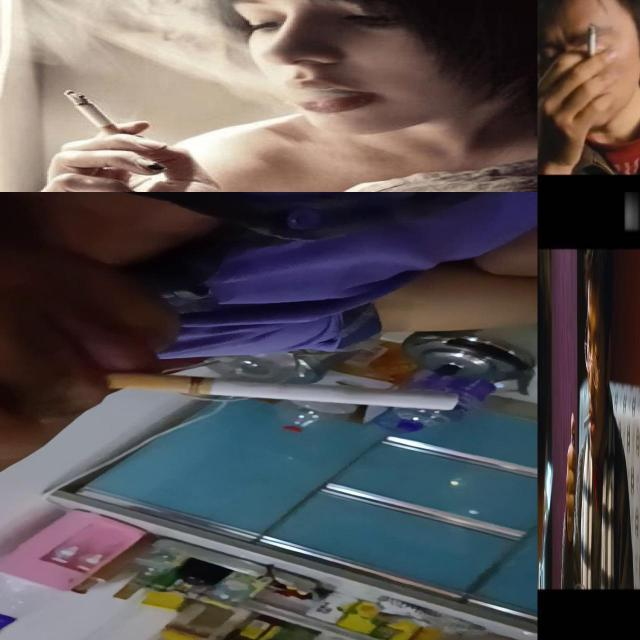cigarette: (108, 374, 462, 411), (63, 90, 122, 136), (586, 22, 598, 58), (582, 408, 592, 438)
